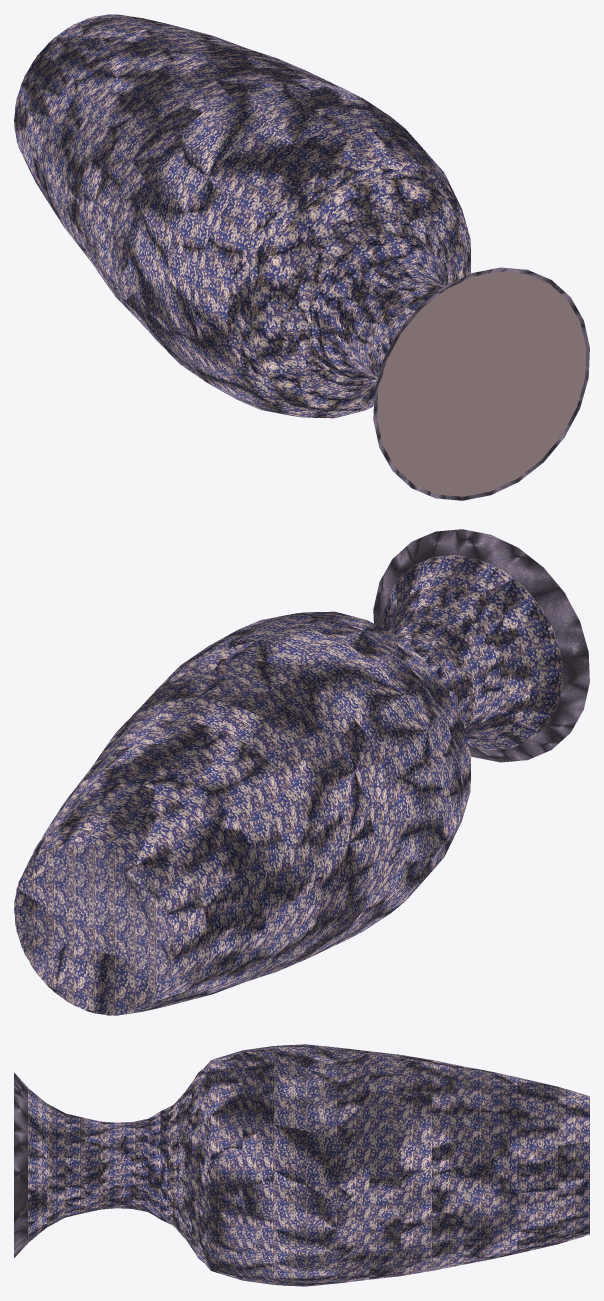
The model's file is model_align.obj.
The picture shows the model from 3 angles, top to bottom: view 1: azimuth 30°, elevation 25°; view 2: azimuth 150°, elevation 25°; view 3: azimuth 270°, elevation 25°; orthographic projection. The views are drawn at different scales.
Size of the model in its own units: 0.0543 by 0.0543 by 0.1292.
3 materials, 3 textured.
